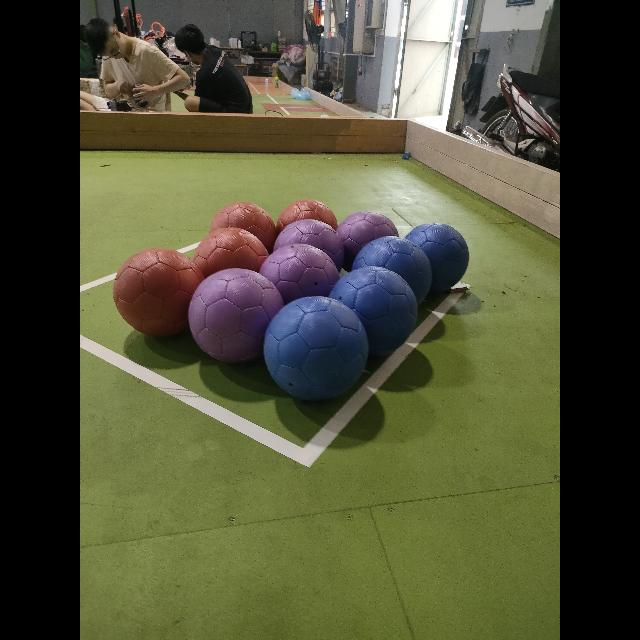B: (264, 296, 368, 399), (336, 268, 414, 349), (405, 224, 469, 292)
P: (188, 268, 284, 362), (259, 243, 333, 314), (276, 218, 344, 270), (338, 210, 394, 266)
R: (113, 248, 203, 336), (210, 201, 276, 253), (276, 198, 338, 234)
